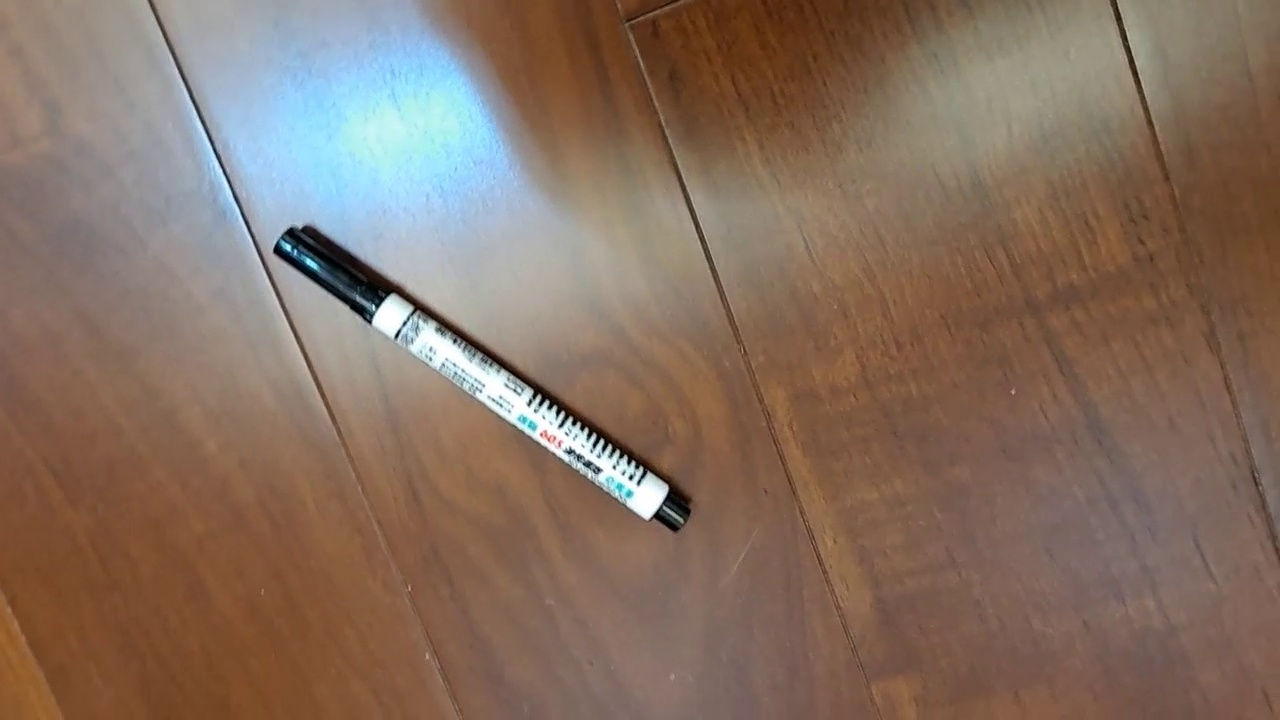pen: (272, 224, 693, 534)
